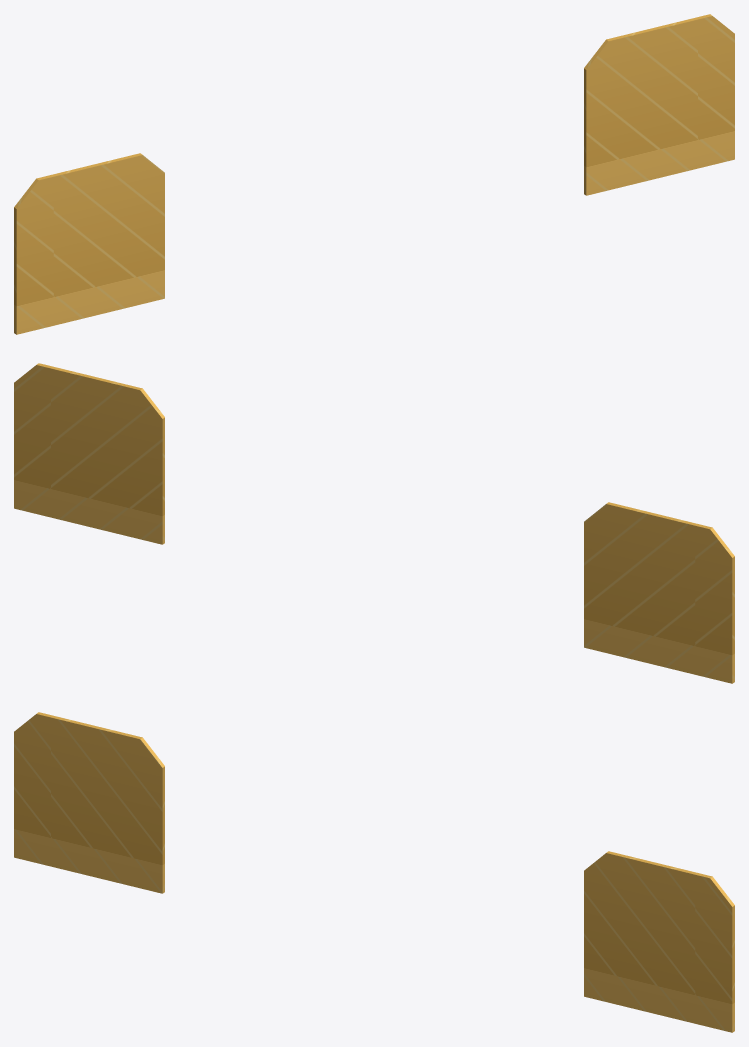
File: SM_HH_V2_Glass_Far.fbx
3 views of the same model, one above another, from view 1: azimuth 30°, elevation 25°; view 2: azimuth 150°, elevation 25°; view 3: azimuth 330°, elevation 25° (orthographic).
Parts seen in each view (by area): view 1: HH_V2_Glass_Far; view 2: HH_V2_Glass_Far; view 3: HH_V2_Glass_Far.
Part boxes in pixels (<box>): HH_V2_Glass_Far: <box>14,14,734,334</box>; HH_V2_Glass_Far: <box>14,363,734,683</box>; HH_V2_Glass_Far: <box>14,712,734,1032</box>.
Bounding box in the file's own units: 0.035 × 5.8 × 1.15.
